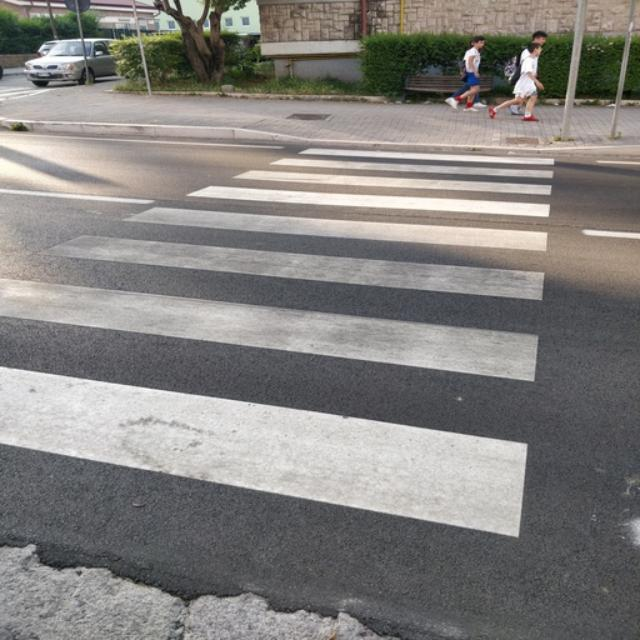sidewalk: (2, 147, 553, 536)
